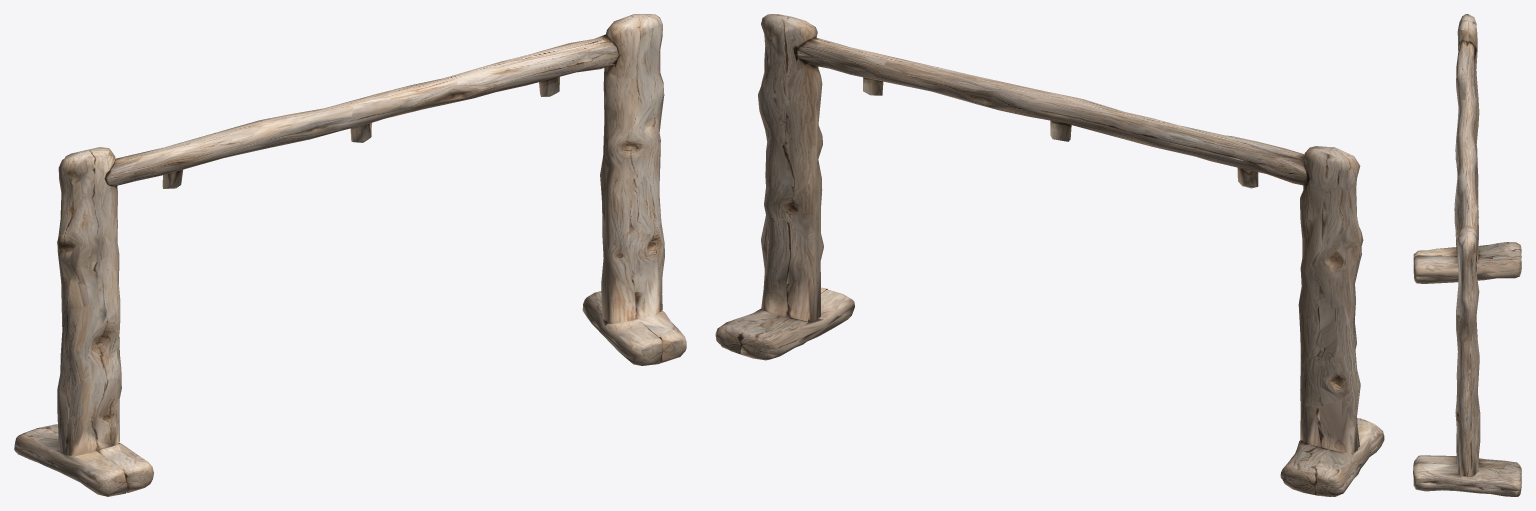
Rendered from chime-frame-v1.glb.
The picture shows the model from 3 angles, left to right: view 1: azimuth 30°, elevation 25°; view 2: azimuth 150°, elevation 25°; view 3: azimuth 270°, elevation 25°; orthographic projection. The views are drawn at different scales.
Parts seen in each view (by area): view 1: tripo_node_43c0440d-f3b3-4caf-a883-8bc5bd6229b9; view 2: tripo_node_43c0440d-f3b3-4caf-a883-8bc5bd6229b9; view 3: tripo_node_43c0440d-f3b3-4caf-a883-8bc5bd6229b9.
Boxes of the visible parts, bbox=[...] form: tripo_node_43c0440d-f3b3-4caf-a883-8bc5bd6229b9: bbox=[14, 14, 686, 496]; tripo_node_43c0440d-f3b3-4caf-a883-8bc5bd6229b9: bbox=[715, 14, 1384, 496]; tripo_node_43c0440d-f3b3-4caf-a883-8bc5bd6229b9: bbox=[1413, 14, 1521, 496].
Bounding box in the file's own units: 3.3 × 1.6 × 0.6207.
1 material, 1 textured.
